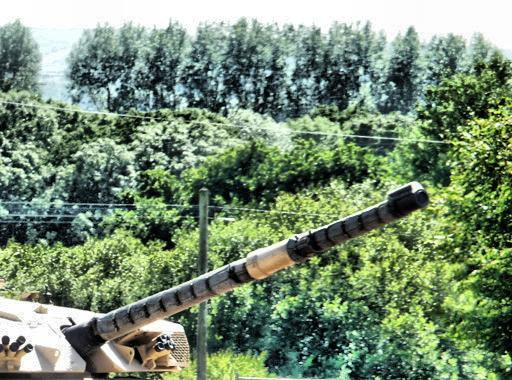tanks: (1, 185, 427, 380), (1, 281, 3, 288)
